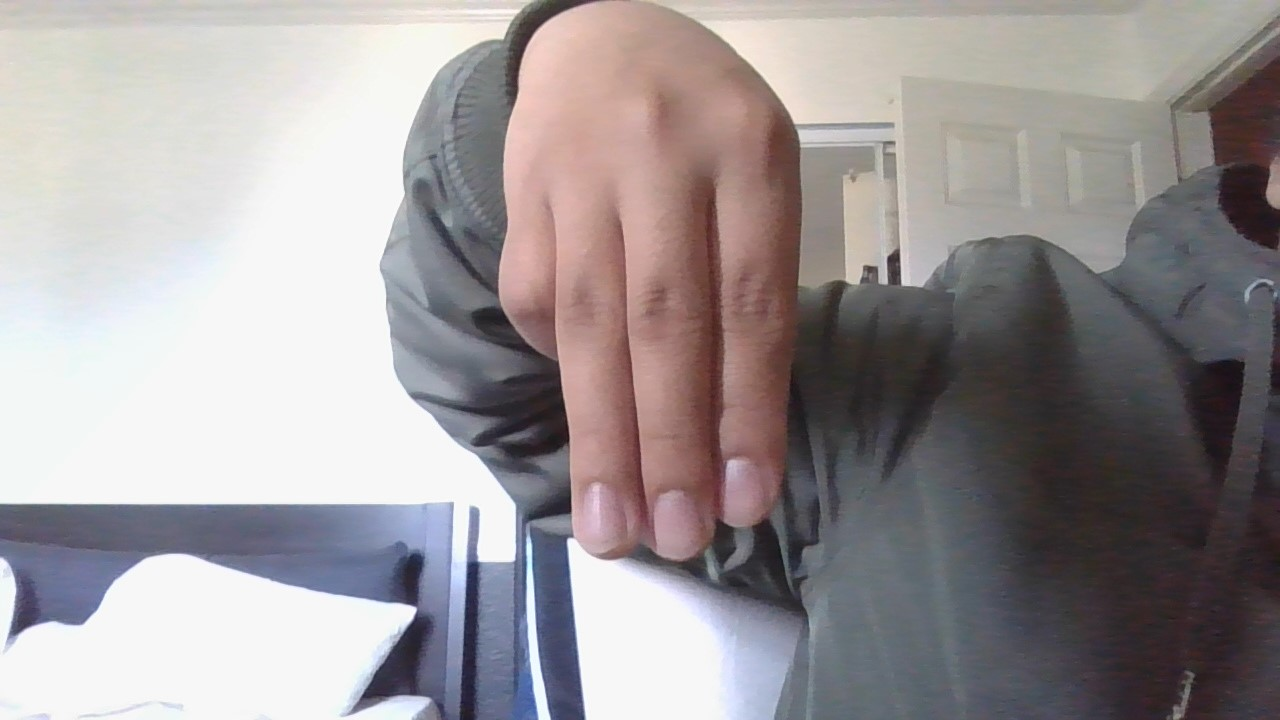m: (449, 1, 817, 576)
